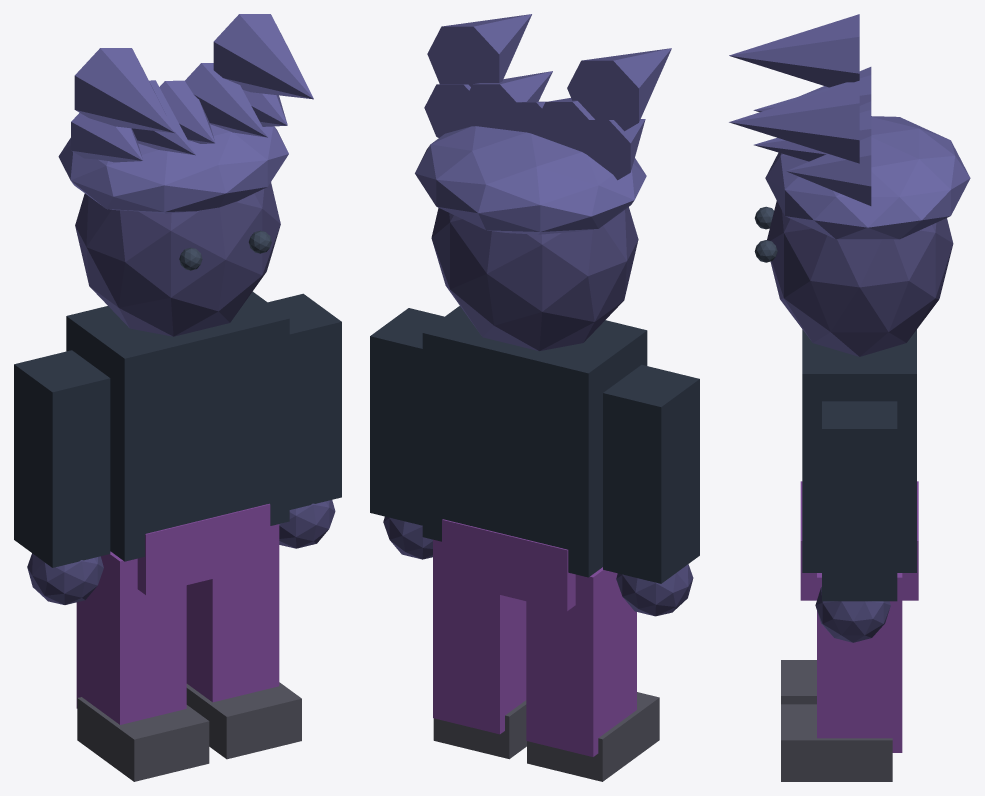
File: beru.glb
3 views of the same model, side by side, from view 1: azimuth 30°, elevation 25°; view 2: azimuth 150°, elevation 25°; view 3: azimuth 270°, elevation 25° (orthographic). The views are drawn at different scales.
Parts seen in each view (by area): view 1: part_000, part_010, part_002, part_004, part_013, part_008, part_006, part_001, part_005, part_009, part_019, part_020 (+7 smaller); view 2: part_000, part_010, part_002, part_013, part_004, part_008, part_006, part_001, part_019, part_020, part_005, part_017 (+7 smaller); view 3: part_010, part_006, part_013, part_000, part_008, part_009, part_020, part_019, part_018, part_007, part_005, part_001 (+2 smaller).
Part boxes in pixels (x1,y1,x2,y2): part_000: (66,291,289,561); part_010: (75,182,280,336); part_002: (14,350,110,567); part_004: (76,551,186,724); part_013: (58,124,288,213); part_008: (186,524,279,702); part_006: (268,293,341,509); part_001: (137,503,270,594); part_005: (77,697,209,781); part_009: (186,682,301,759); part_019: (74,48,174,133); part_020: (213,14,313,99); part_000: (422,306,647,577); part_010: (431,207,638,350); part_002: (603,365,699,583); part_013: (415,126,646,234); part_004: (526,567,636,756); part_008: (433,539,526,734); part_006: (370,308,444,525); part_001: (442,519,575,611); part_019: (567,48,671,131); part_020: (427,14,531,86); part_005: (527,692,659,781); part_017: (461,71,552,131); part_010: (767,201,953,356); part_006: (822,401,897,601); part_013: (765,116,970,239); part_000: (802,329,916,572); part_008: (817,573,902,752); part_009: (781,704,892,781); part_020: (729,80,859,163); part_019: (729,14,859,87); part_018: (786,136,871,205); part_007: (815,587,890,642); part_005: (781,660,816,704); part_001: (800,481,918,600).
Size of the model in its own units: 1.21 by 2.72 by 0.8632.
